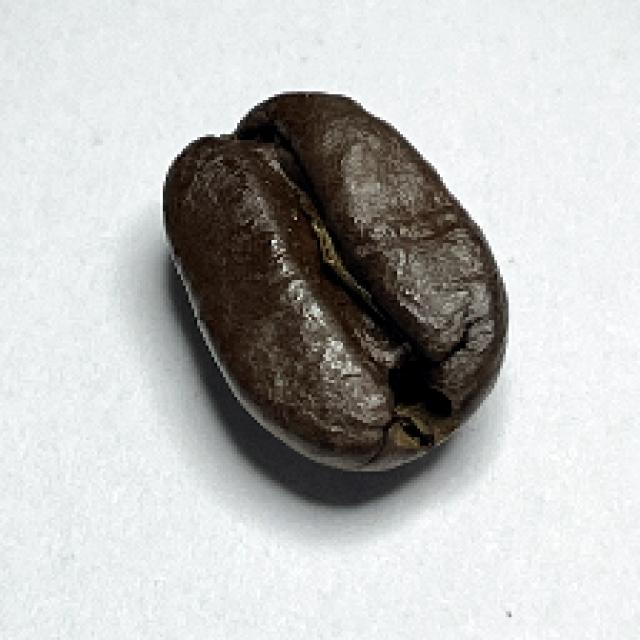bean: (156, 90, 510, 476)
